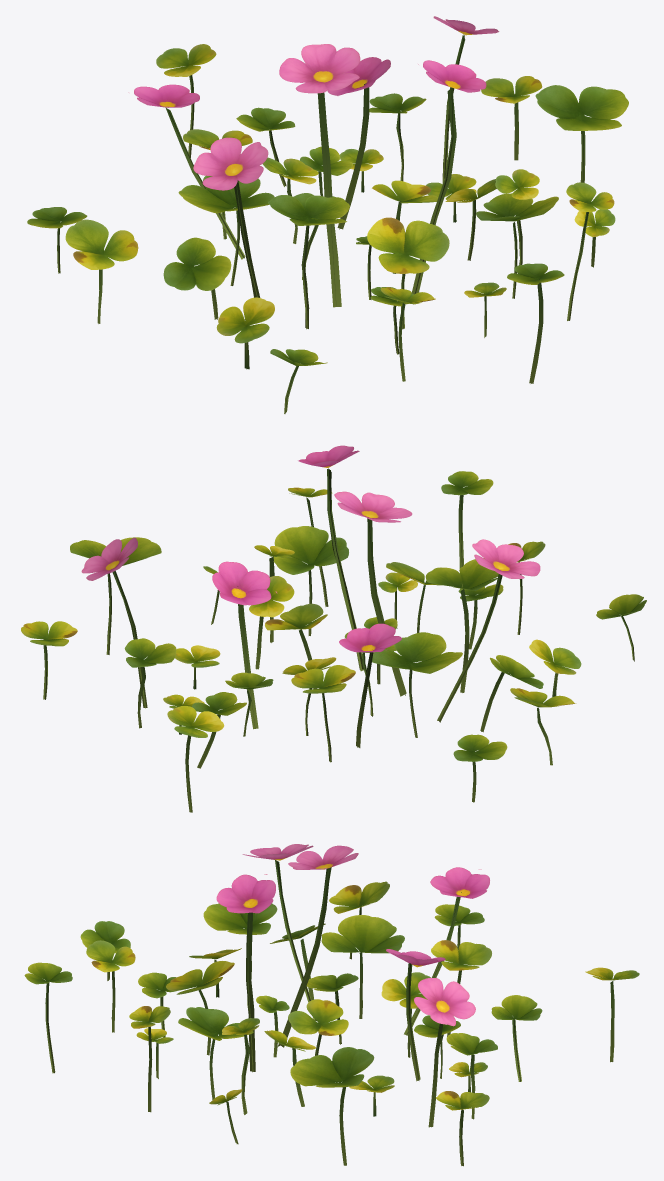
3 renders of one model, top to bottom at view 1: azimuth 30°, elevation 25°; view 2: azimuth 150°, elevation 25°; view 3: azimuth 270°, elevation 25°, orthographic. The views are drawn at different scales.
Parts seen in each view (by area): view 1: pl-clover-sorrel; view 2: pl-clover-sorrel; view 3: pl-clover-sorrel.
Part boxes in pixels (box(x1,y1,x2,y2)): pl-clover-sorrel: box(27, 16, 628, 413); pl-clover-sorrel: box(21, 445, 646, 812); pl-clover-sorrel: box(24, 844, 639, 1166).
Bounding box in the file's own units: 1.35 × 0.5535 × 1.52.
1 material, 1 textured.
